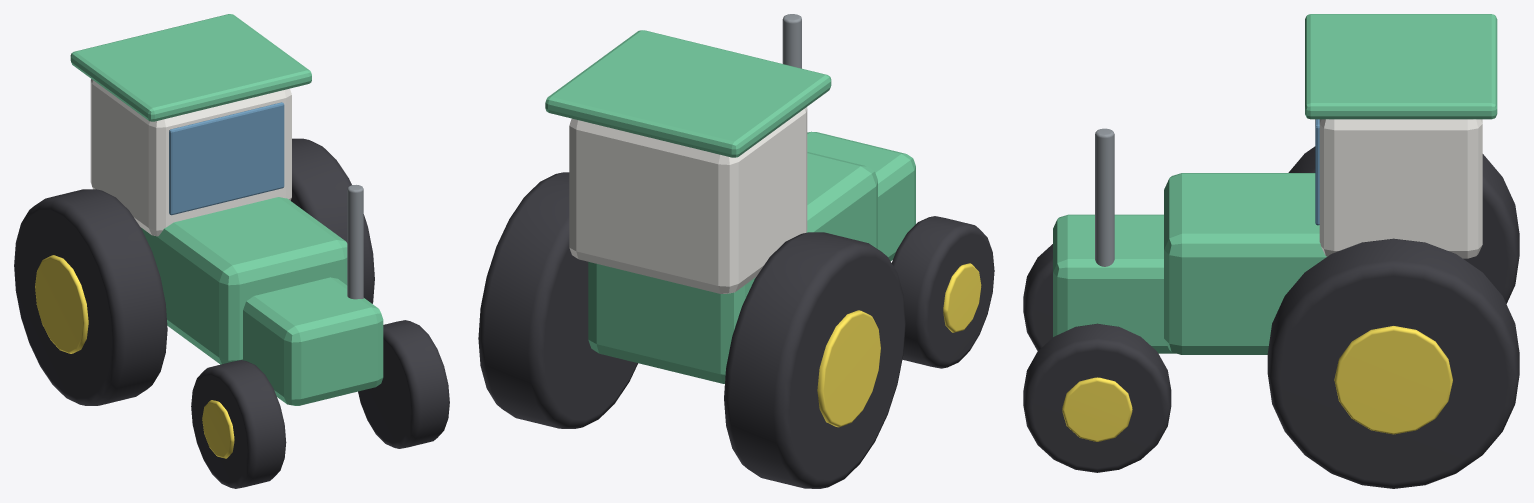
Rendered from tractor.fbx.
The picture shows the model from 3 angles, left to right: view 1: azimuth 30°, elevation 25°; view 2: azimuth 150°, elevation 25°; view 3: azimuth 270°, elevation 25°; orthographic projection. The views are drawn at different scales.
Visible parts, largest first — view 1: Visual; view 2: Visual; view 3: Visual.
Boxes of the visible parts, x1,y1,x2,y2 form: Visual: [14, 14, 449, 488]; Visual: [478, 14, 994, 488]; Visual: [1023, 14, 1519, 488].
Size of what is drawn, in the model's own units: 248 by 268 by 335.
